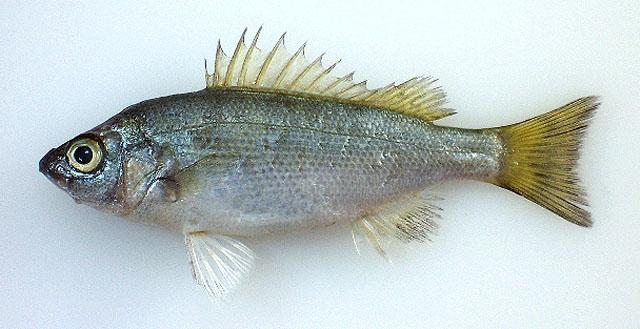Silver Perch: (35, 24, 603, 300)
